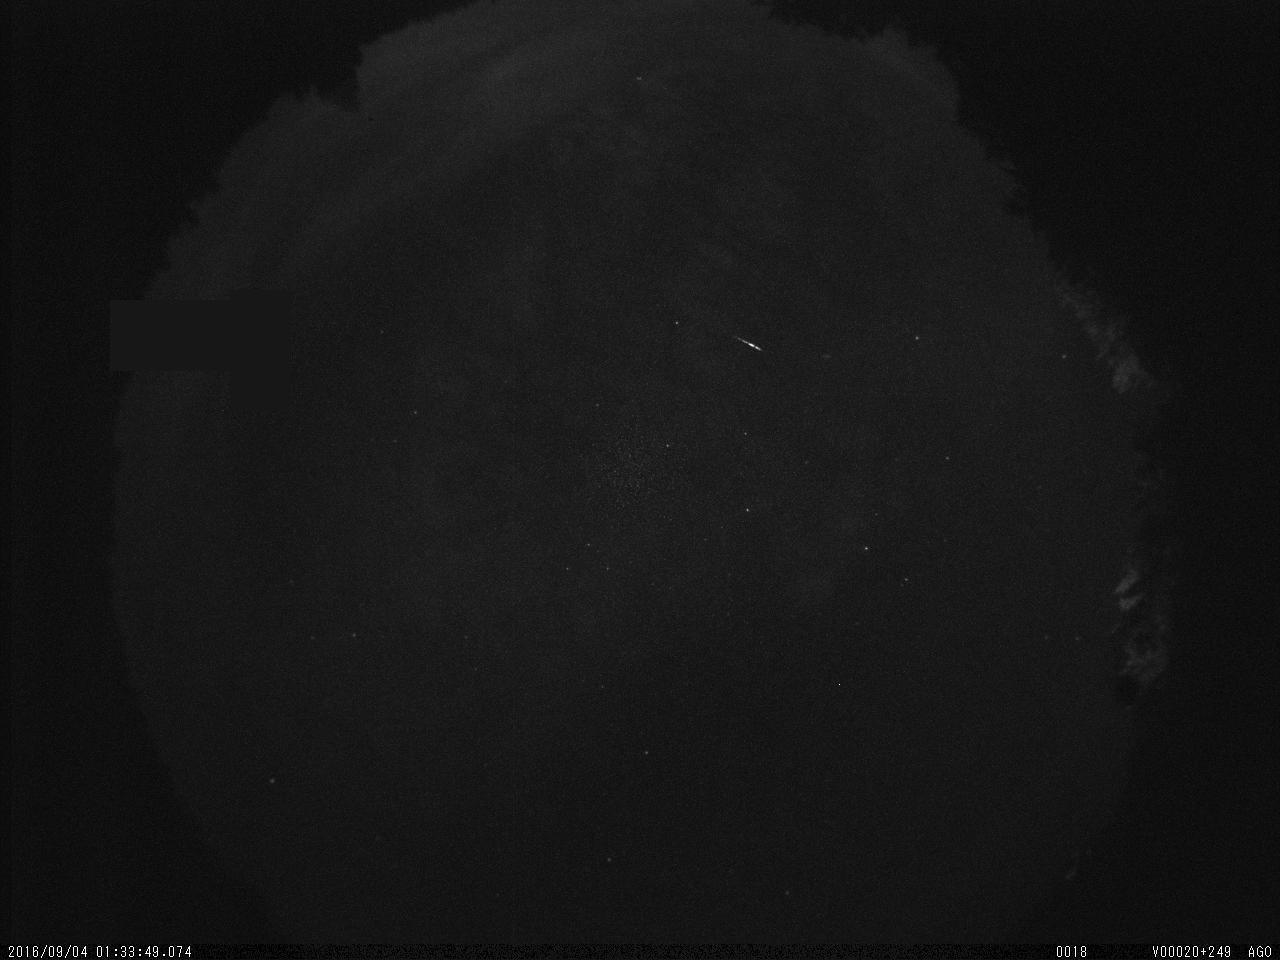Meteor: (735, 332, 765, 350)
